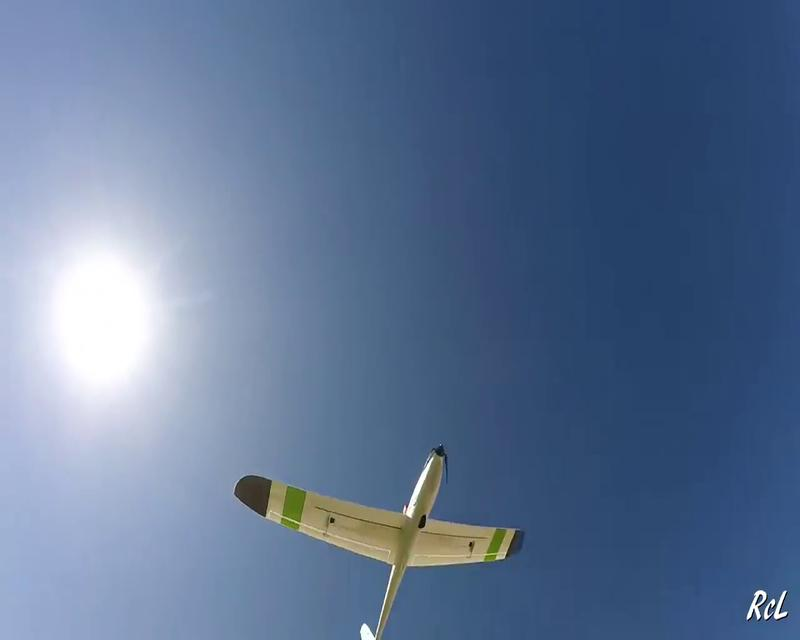UAV: (232, 442, 523, 638)
